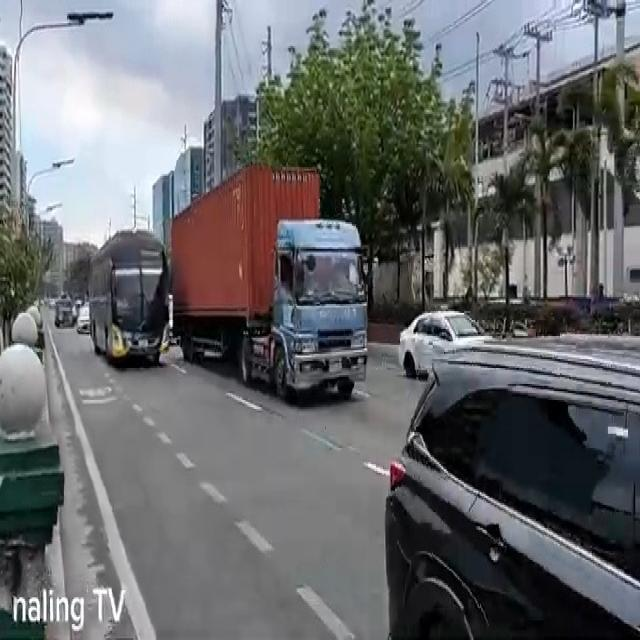bus: (86, 229, 170, 371)
car: (384, 332, 640, 640), (398, 310, 494, 382)
truck: (170, 161, 368, 411)
